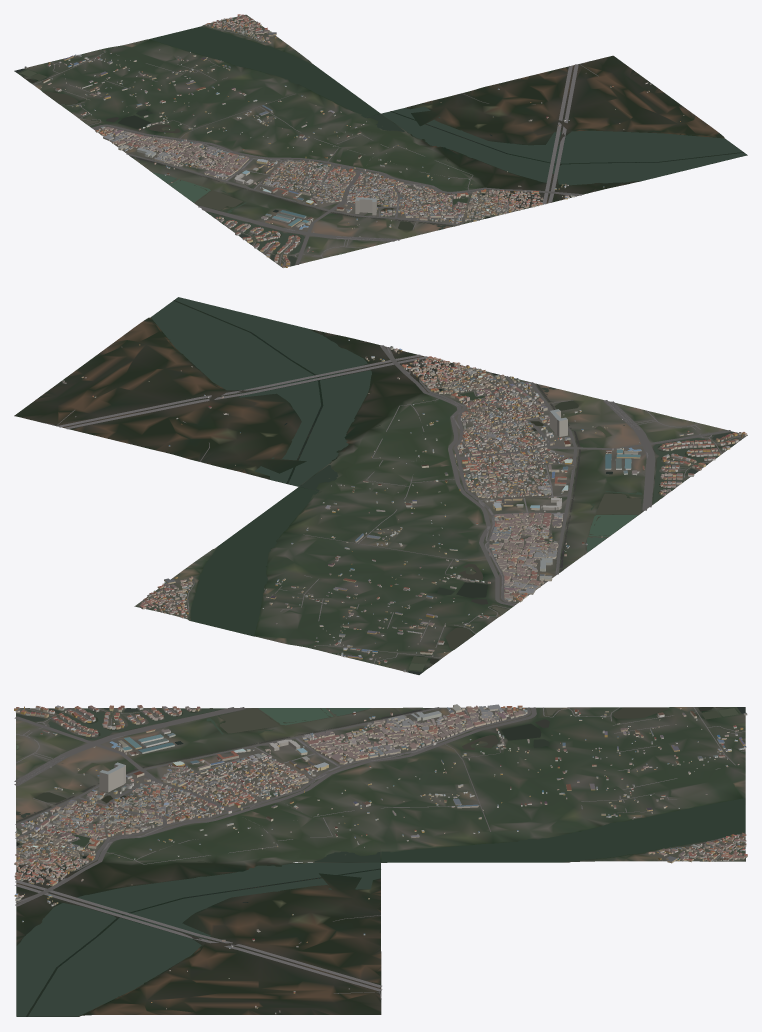
3 renders of one model, top to bottom at view 1: azimuth 30°, elevation 25°; view 2: azimuth 150°, elevation 25°; view 3: azimuth 270°, elevation 25°, orthographic. The views are drawn at different scales.
Parts seen in each view (by area): view 1: ground, water, buildings, roads; view 2: ground, water, buildings, roads; view 3: ground, water, buildings, roads.
Part boxes in pixels (left/top/right/bottom): ground: left=14, top=14, right=747, bottom=267; water: left=14, top=26, right=746, bottom=265; buildings: left=24, top=14, right=684, bottom=267; roads: left=24, top=23, right=598, bottom=265; ground: left=14, top=300, right=747, bottom=674; water: left=151, top=297, right=737, bottom=674; buildings: left=62, top=339, right=747, bottom=672; roads: left=42, top=345, right=742, bottom=671; ground: left=16, top=707, right=745, bottom=1016; water: left=16, top=707, right=745, bottom=1016; buildings: left=14, top=704, right=747, bottom=1014; roads: left=14, top=707, right=745, bottom=999.
Size of the model in its own units: 2816 by 84.01 by 2821.
